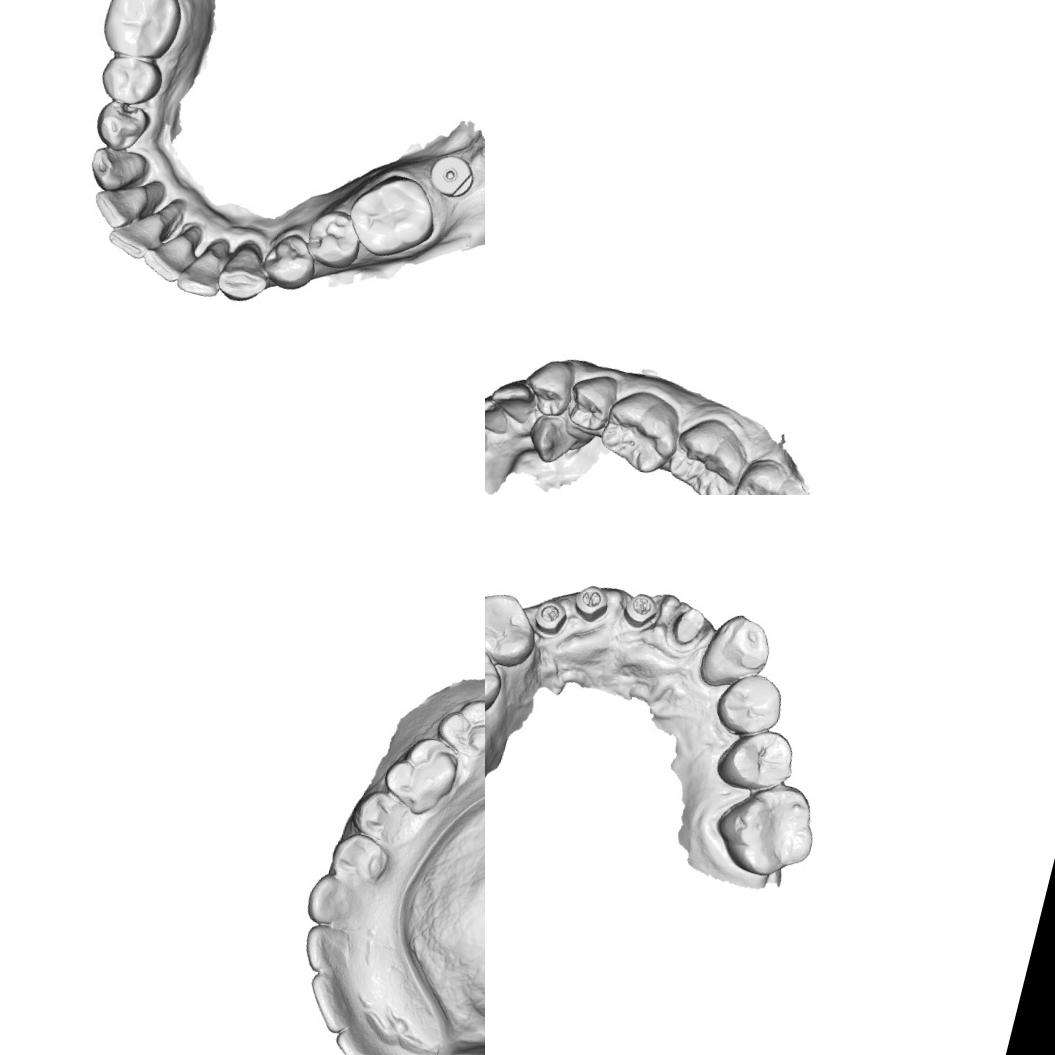canine: (695, 605, 776, 698), (300, 866, 362, 936), (521, 407, 587, 470), (83, 139, 150, 198), (216, 240, 273, 308)
crown: (665, 596, 710, 652)
implant: (426, 148, 478, 198), (530, 592, 576, 642), (568, 577, 612, 622), (622, 592, 659, 628)
incisor: (298, 965, 362, 1037), (171, 234, 234, 302), (100, 202, 167, 264), (136, 224, 198, 288), (296, 916, 356, 980), (88, 178, 147, 232), (325, 1016, 400, 1055), (485, 375, 539, 427), (485, 392, 515, 437)
molar: (708, 771, 826, 889), (339, 164, 443, 266), (592, 380, 689, 480), (376, 727, 469, 824), (661, 410, 757, 495), (95, 0, 188, 67), (723, 452, 828, 495), (430, 688, 485, 760)
premolar: (714, 718, 801, 799), (710, 664, 792, 744), (485, 583, 544, 670), (299, 202, 368, 272), (95, 47, 168, 113), (519, 352, 579, 420), (259, 229, 321, 294), (326, 830, 392, 891), (562, 368, 620, 436), (348, 784, 410, 845), (89, 97, 150, 155), (485, 632, 509, 717)
